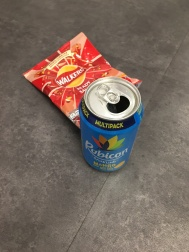can_blue: (74, 73, 149, 178)
